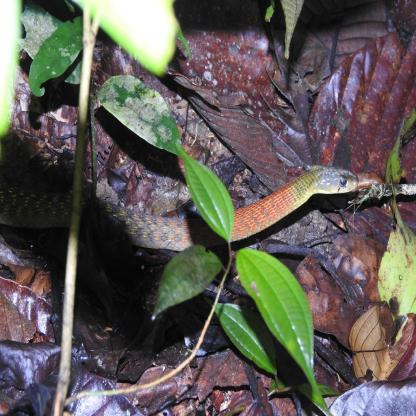Snake: (244, 166, 360, 237)
